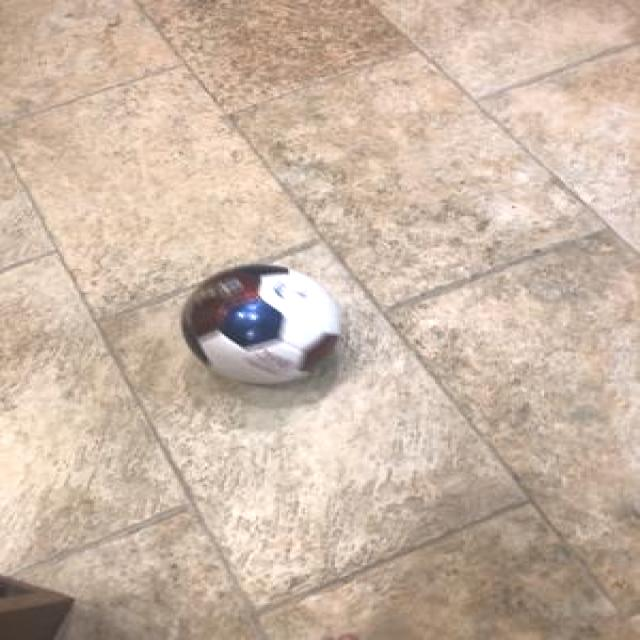Soccer Ball: (175, 261, 343, 384)
